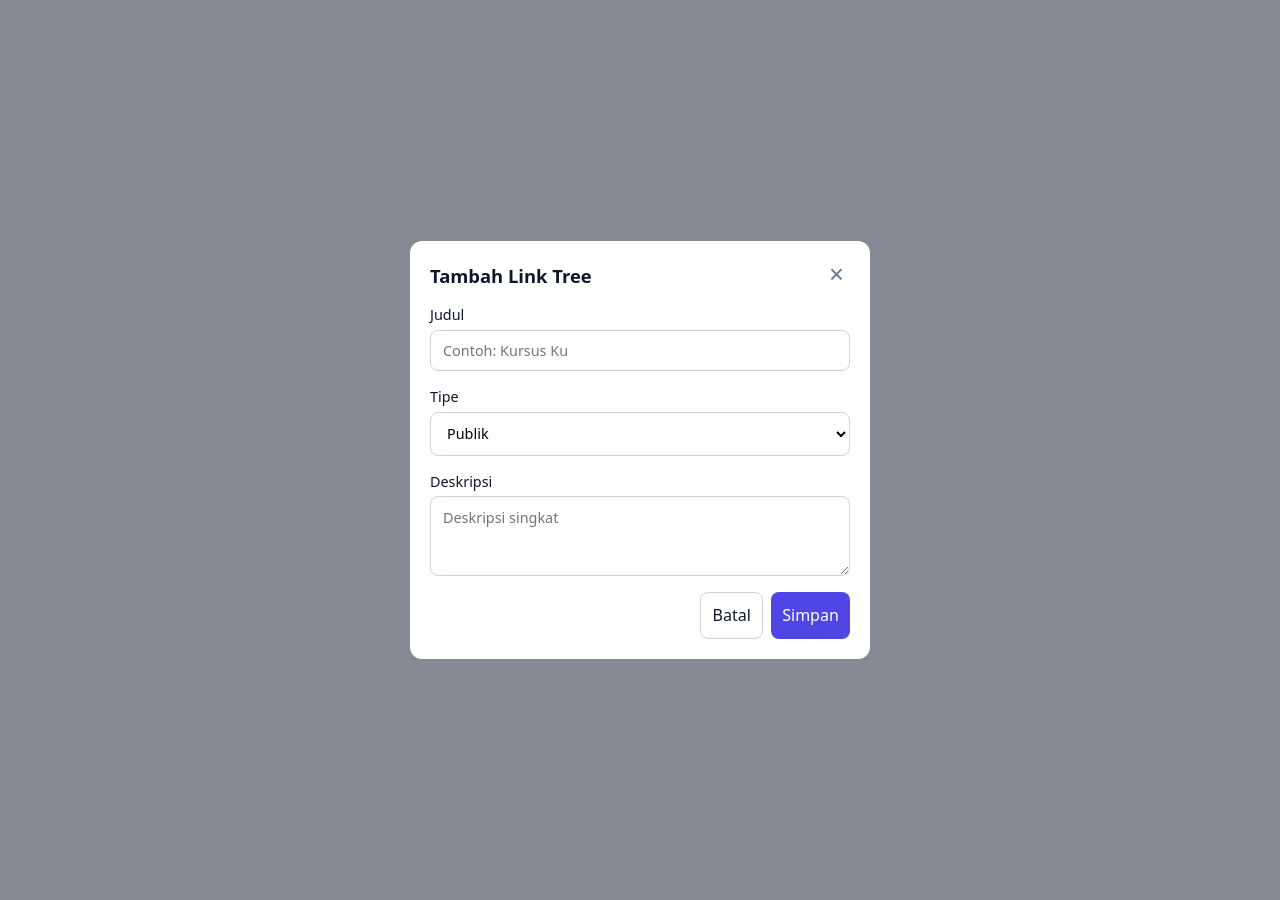
Test case: AddModal › menolak judul kosong
This screenshot has width=1280, height=900.
Click the button "Simpan": (810, 615) 771,592 -> 850,639
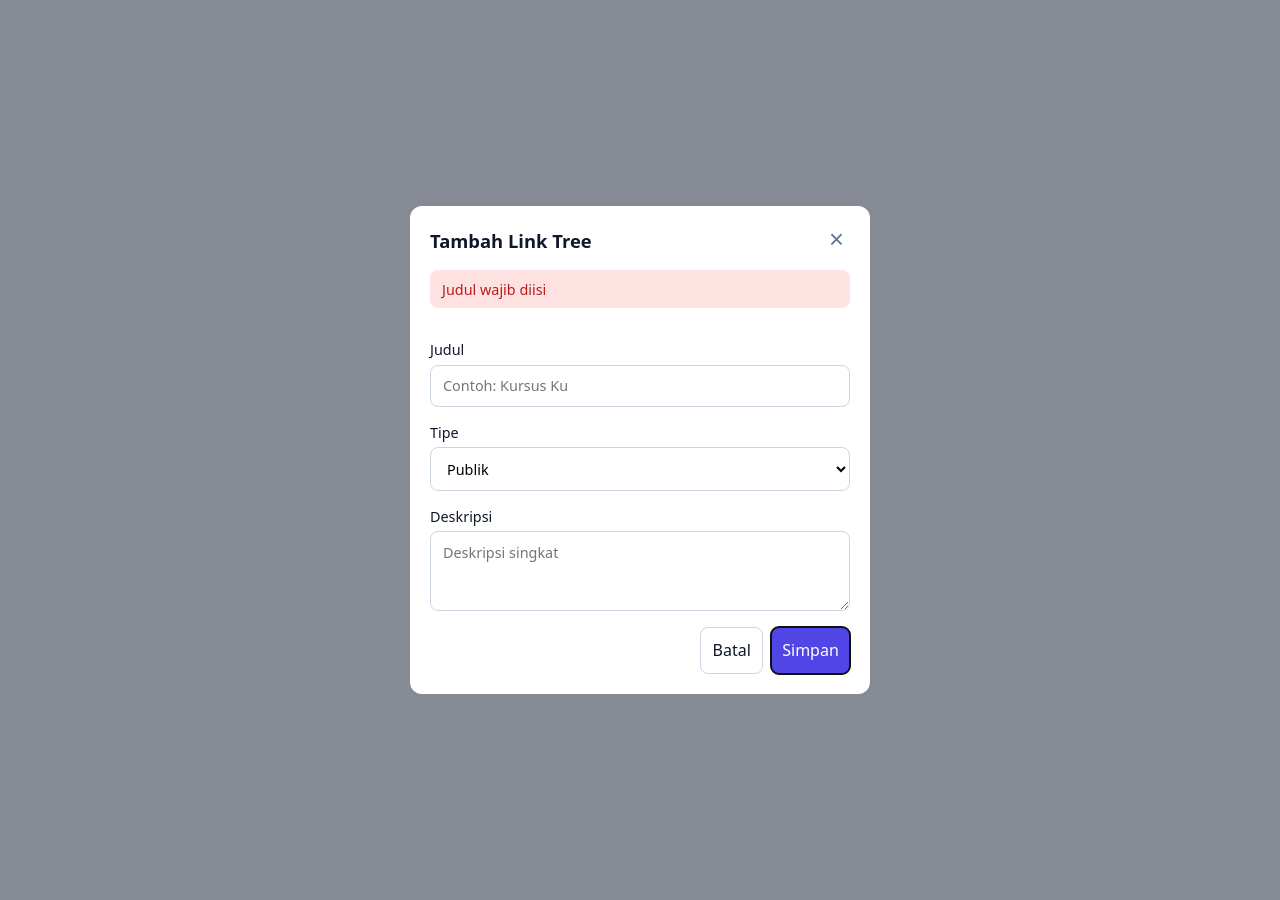
Now the text "Judul wajib diisi" is shown, box 430,270 -> 850,308
